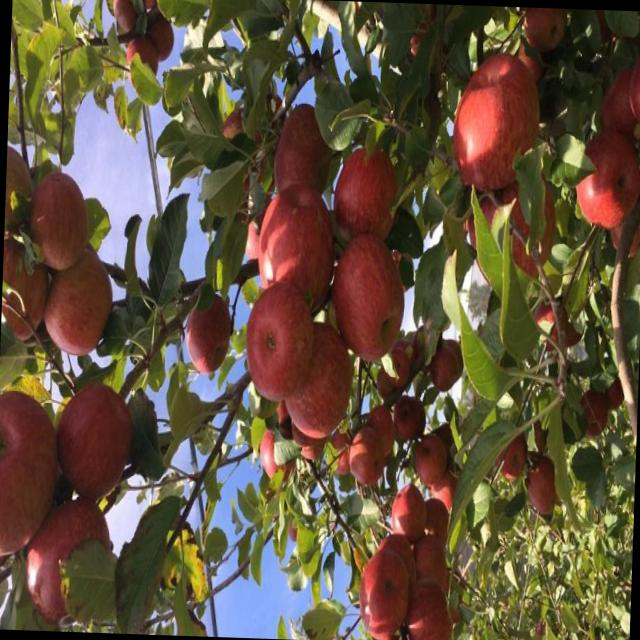Tao: (17, 496, 118, 618), (460, 44, 540, 194), (0, 368, 66, 546), (335, 220, 402, 368), (462, 182, 552, 292), (565, 128, 640, 256), (53, 380, 130, 502), (254, 274, 320, 398), (44, 251, 109, 373), (284, 318, 354, 431), (257, 192, 331, 292), (335, 136, 395, 246), (27, 170, 86, 272), (266, 105, 328, 199), (364, 535, 411, 640), (2, 236, 48, 343), (182, 290, 231, 376), (406, 571, 463, 640), (346, 408, 384, 506), (496, 408, 538, 496), (519, 6, 568, 64), (416, 508, 454, 580), (392, 386, 432, 452), (609, 36, 640, 119), (387, 474, 421, 548), (414, 432, 448, 503), (525, 448, 561, 515), (139, 5, 175, 60), (434, 320, 462, 387), (122, 38, 157, 90), (104, 0, 142, 39)
